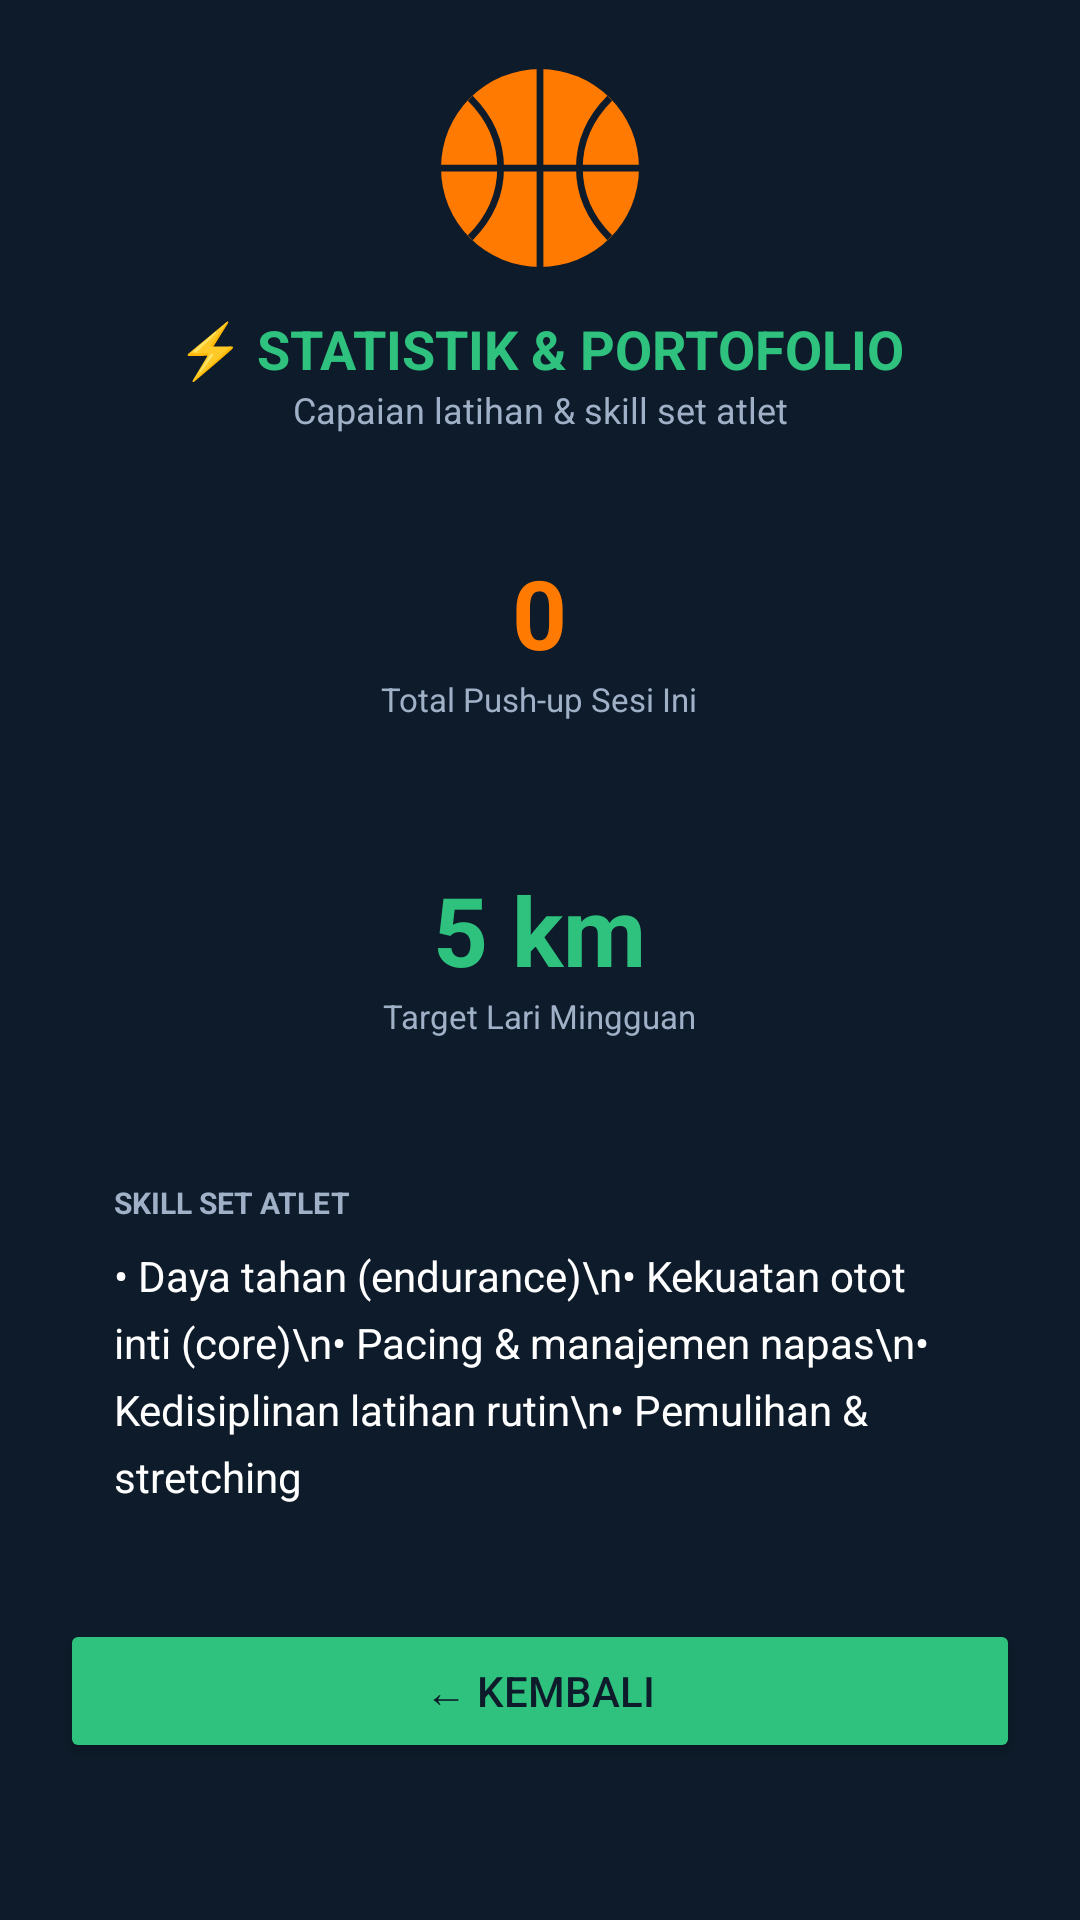

Point at icon controls on the screen. Image size 1080 × 1920, points as (x=x, y=y).
Ikon bola: (x=540, y=168)
